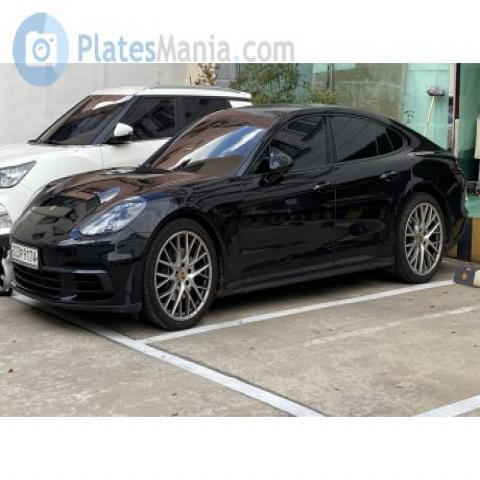LP: (5, 236, 46, 270)
